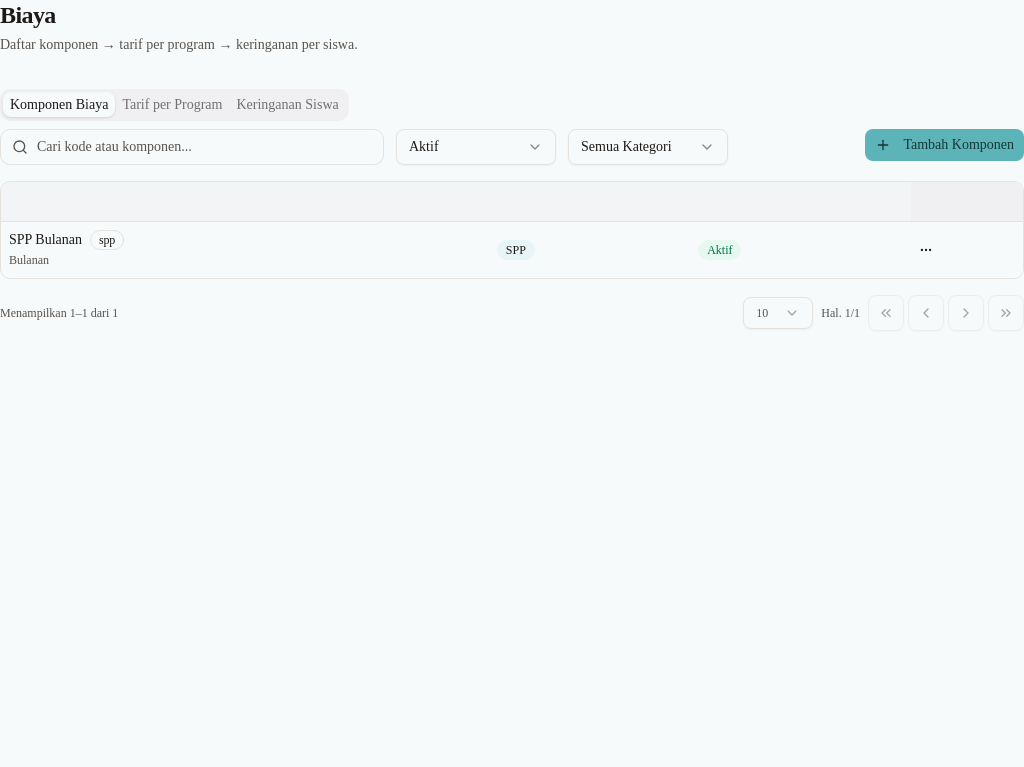
Test: FeesPage › Tarif per Program: defaults to the active program and the active academic year
Click the tab "Tarif per Program". click: point(172, 105)
box: [115,92,230,117]
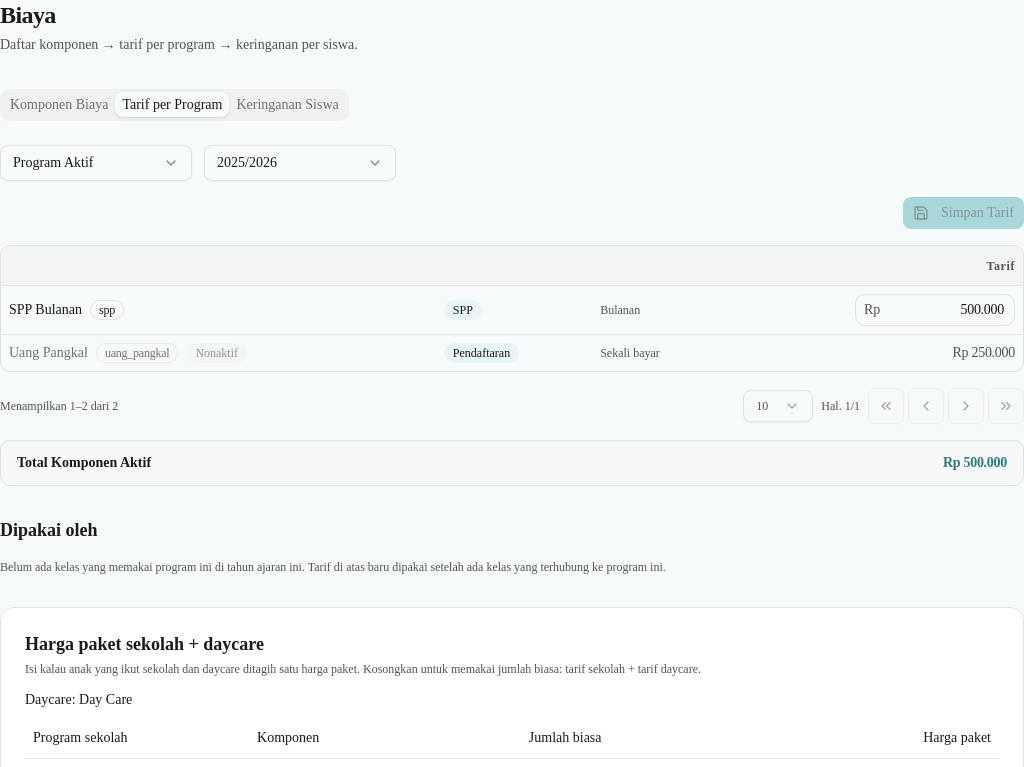
Expected: the dropdown labelled "Program" reads "Program Aktif", [0,145,192,181]
Expected: the dropdown named "Tahun Ajaran" reads "2025/2026", [204,145,396,181]
